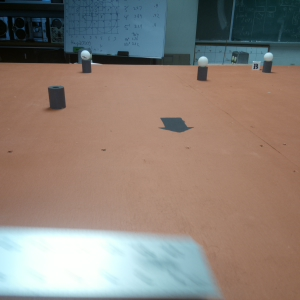blockB: (250, 59, 262, 71)
obstacle: (46, 84, 67, 110), (196, 55, 209, 82), (79, 50, 93, 75), (262, 51, 273, 74)
start: (157, 115, 194, 135)
